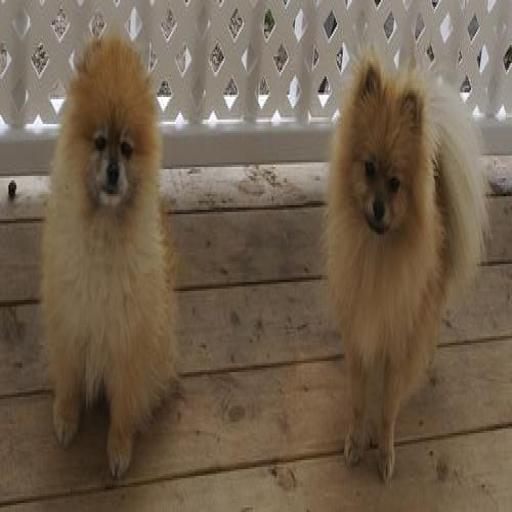dog_face: (334, 56, 423, 239), (66, 43, 144, 207)
